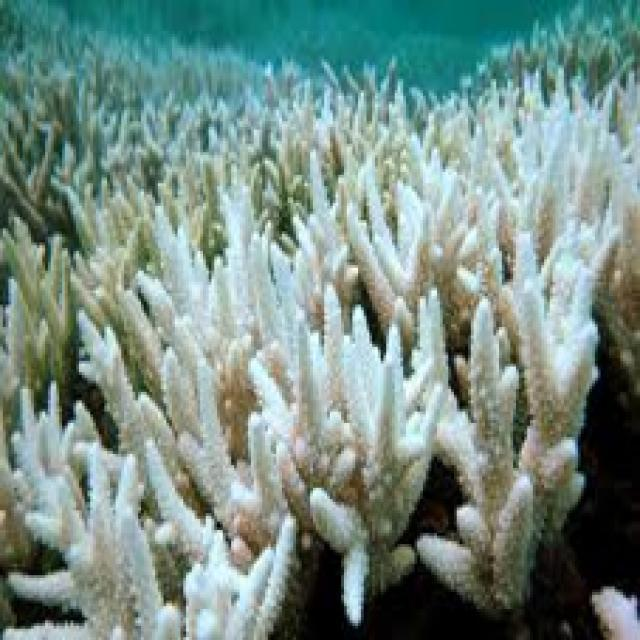Bleached: (424, 252, 588, 607), (282, 294, 437, 595), (125, 206, 277, 501), (27, 477, 278, 640), (415, 133, 640, 297), (276, 165, 429, 313), (576, 100, 640, 391), (591, 590, 640, 640)
